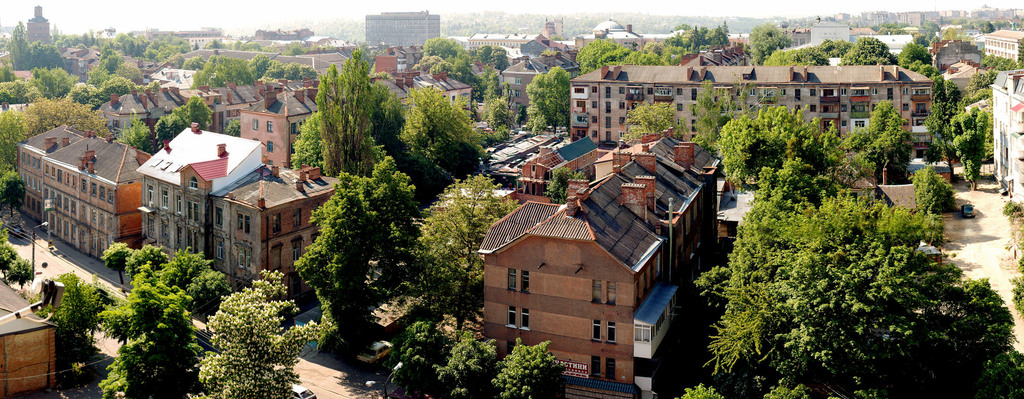Tree: (619, 78, 1023, 398), (284, 46, 564, 398), (102, 241, 233, 398), (196, 267, 334, 398), (0, 99, 115, 218), (745, 23, 943, 78), (38, 271, 115, 367), (580, 23, 736, 70), (114, 96, 210, 154), (64, 26, 195, 62), (189, 51, 316, 86), (5, 23, 71, 67), (0, 229, 33, 297), (28, 64, 74, 100), (981, 48, 1023, 70), (965, 19, 1018, 35)
